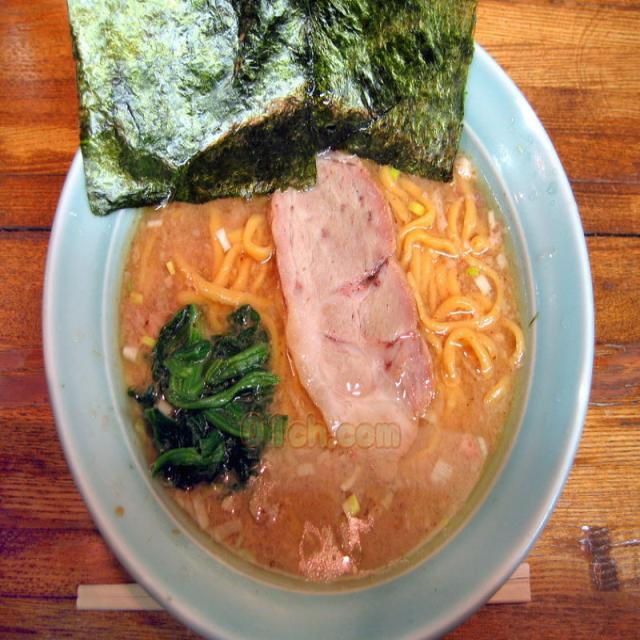面条主食: (36, 0, 602, 640)
